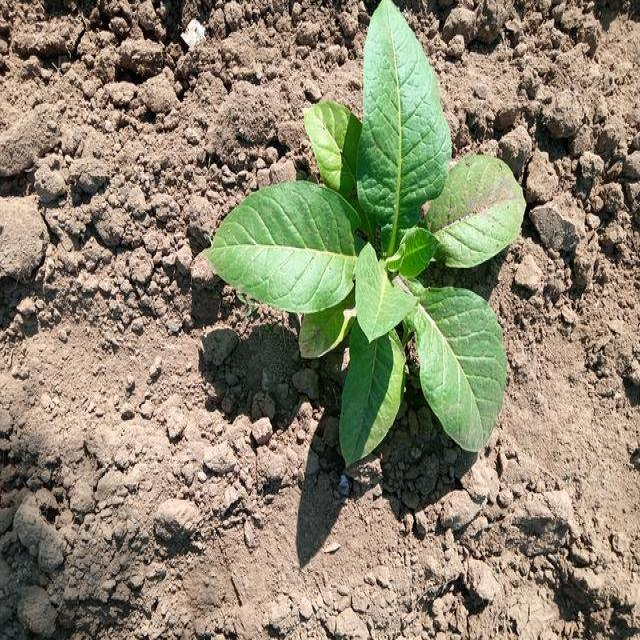crop: (205, 0, 536, 462)
